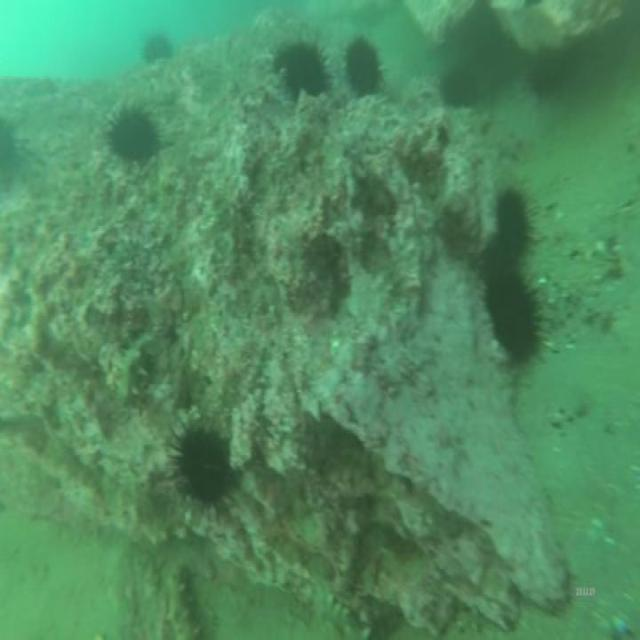echinus: (476, 254, 546, 374), (171, 414, 245, 525), (272, 28, 335, 103), (102, 99, 164, 166), (492, 182, 542, 264), (341, 27, 388, 106), (0, 115, 32, 182), (140, 25, 174, 68)
holothurian: (160, 559, 211, 640)
